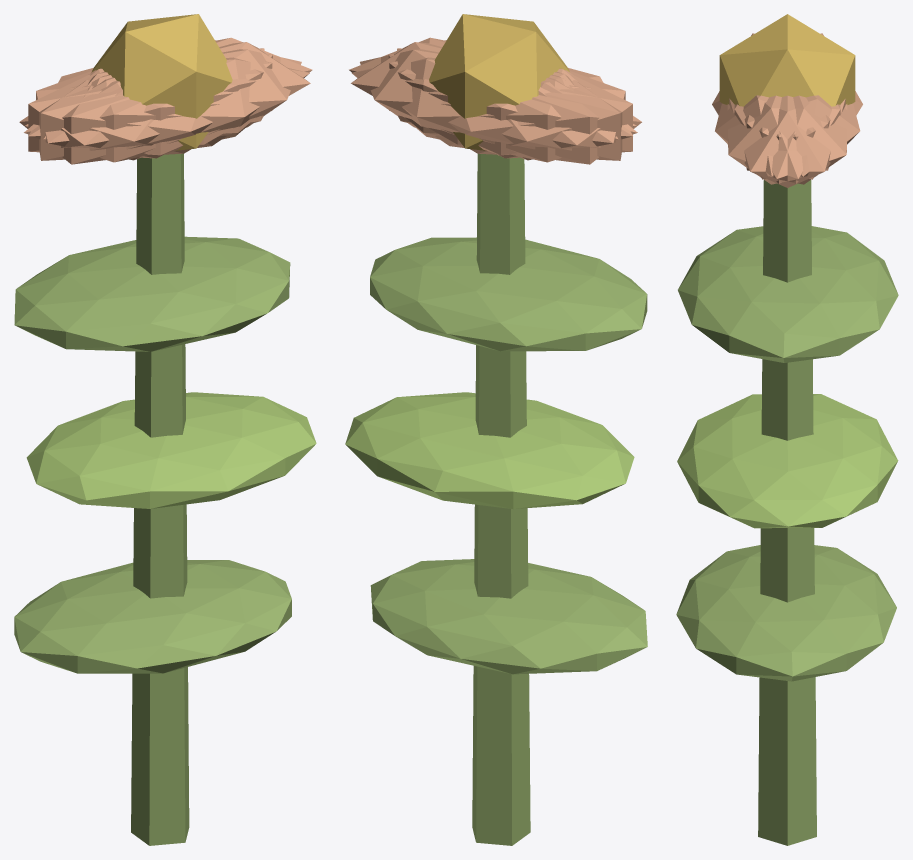
The model's file is albizia-adianthifolia.glb.
3 views of the same model, side by side, from view 1: azimuth 30°, elevation 25°; view 2: azimuth 150°, elevation 25°; view 3: azimuth 270°, elevation 25° (orthographic).
Parts seen in each view (by area): view 1: stem, leaf1, leaf2, leaf0, center, petal1, petal6, petal2, petal5, petal7, petal0, petal4 (+2 smaller); view 2: stem, leaf1, leaf2, leaf0, center, petal8, petal3, petal7, petal4, petal2, petal0, petal5 (+2 smaller); view 3: stem, leaf1, leaf2, leaf0, center, petal0, petal5, petal4, petal8, petal1.
Part boxes in pixels (x1=…): stem: x1=131, y1=153, x2=189, y2=845; leaf1: x1=26, y1=392, x2=316, y2=508; leaf2: x1=14, y1=236, x2=290, y2=351; leaf0: x1=14, y1=560, x2=291, y2=673; center: x1=91, y1=14, x2=232, y2=150; petal1: x1=24, y1=57, x2=309, y2=162; petal6: x1=19, y1=70, x2=226, y2=164; petal2: x1=39, y1=48, x2=264, y2=160; petal5: x1=43, y1=49, x2=301, y2=155; petal7: x1=28, y1=54, x2=272, y2=158; petal0: x1=91, y1=42, x2=310, y2=145; petal4: x1=25, y1=37, x2=312, y2=136; stem: x1=472, y1=153, x2=530, y2=845; leaf1: x1=345, y1=392, x2=634, y2=509; leaf2: x1=370, y1=237, x2=647, y2=351; leaf0: x1=370, y1=559, x2=647, y2=674; center: x1=429, y1=14, x2=569, y2=150; petal8: x1=352, y1=57, x2=637, y2=162; petal3: x1=435, y1=70, x2=641, y2=164; petal7: x1=397, y1=48, x2=622, y2=160; petal4: x1=360, y1=49, x2=617, y2=155; petal2: x1=388, y1=54, x2=632, y2=158; petal0: x1=351, y1=42, x2=570, y2=145; petal5: x1=349, y1=37, x2=636, y2=136; stem: x1=758, y1=180, x2=816, y2=845; leaf1: x1=677, y1=394, x2=898, y2=528; leaf2: x1=678, y1=226, x2=898, y2=362; leaf0: x1=676, y1=545, x2=896, y2=681; center: x1=719, y1=14, x2=855, y2=106; petal0: x1=729, y1=95, x2=845, y2=187; petal5: x1=727, y1=95, x2=840, y2=184; petal4: x1=734, y1=95, x2=847, y2=184; petal8: x1=744, y1=95, x2=860, y2=176; petal1: x1=715, y1=95, x2=830, y2=176.
Bounding box in the file's own units: 0.1497 × 0.3996 × 0.1005.
